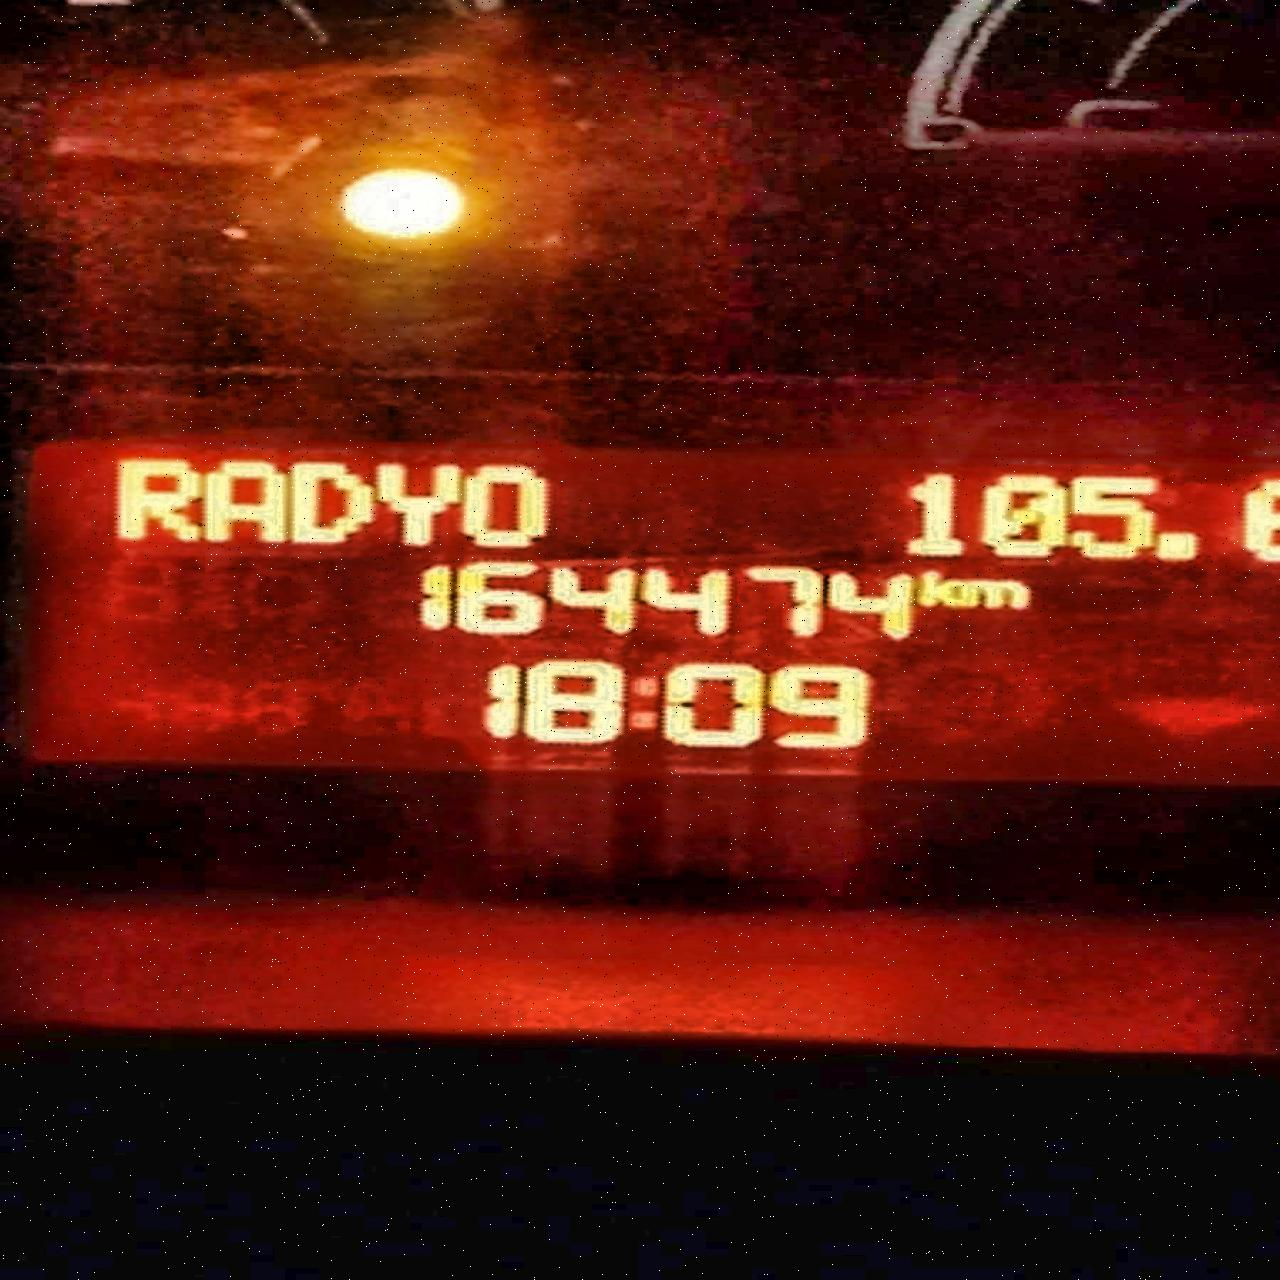-: (1158, 526, 1210, 567)
0: (663, 660, 764, 754), (979, 470, 1068, 561)
1: (897, 464, 965, 557), (477, 655, 523, 744), (410, 561, 451, 636)
4: (639, 559, 726, 636), (825, 565, 914, 640), (551, 558, 636, 635)
5: (1073, 468, 1155, 565)
6: (452, 556, 549, 639)
7: (747, 560, 825, 641)
8: (524, 655, 619, 747)
9: (768, 663, 877, 755)
X: (113, 450, 199, 546), (465, 461, 559, 549), (376, 452, 458, 549), (291, 456, 376, 547), (203, 456, 285, 549), (960, 576, 1040, 611), (625, 668, 656, 741), (920, 566, 956, 613)
odometer: (6, 425, 1279, 791)
